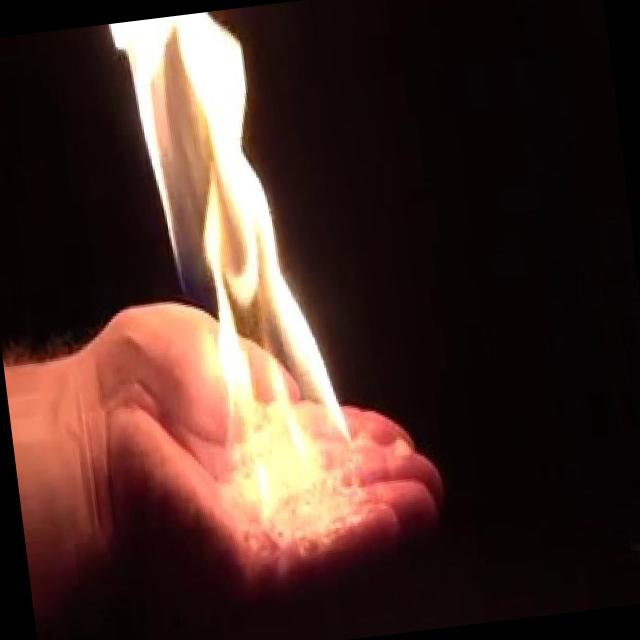Fire: (105, 0, 371, 533)
